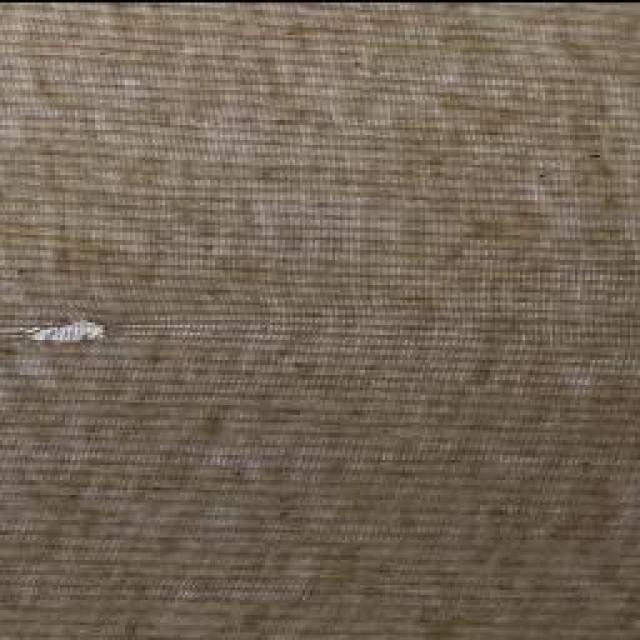other: (6, 316, 112, 349)
